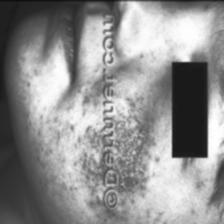Non-Cancerous Skin Condition: (32, 70, 103, 222), (117, 74, 159, 216)
